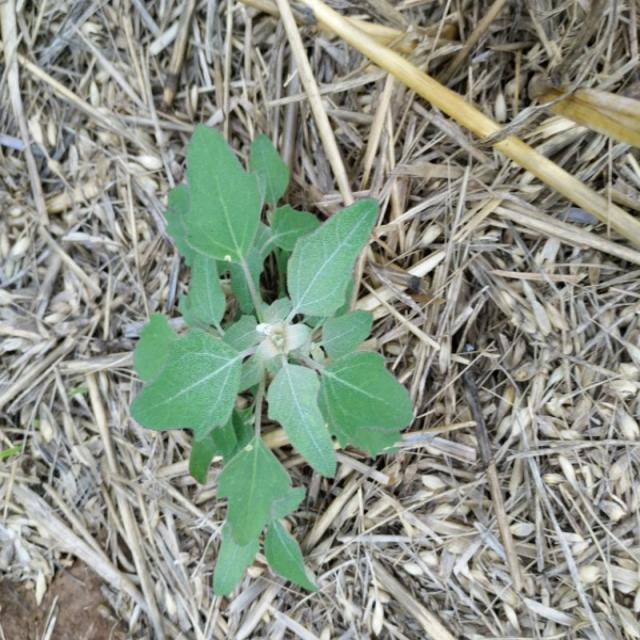goosefoots: (136, 114, 404, 579)
